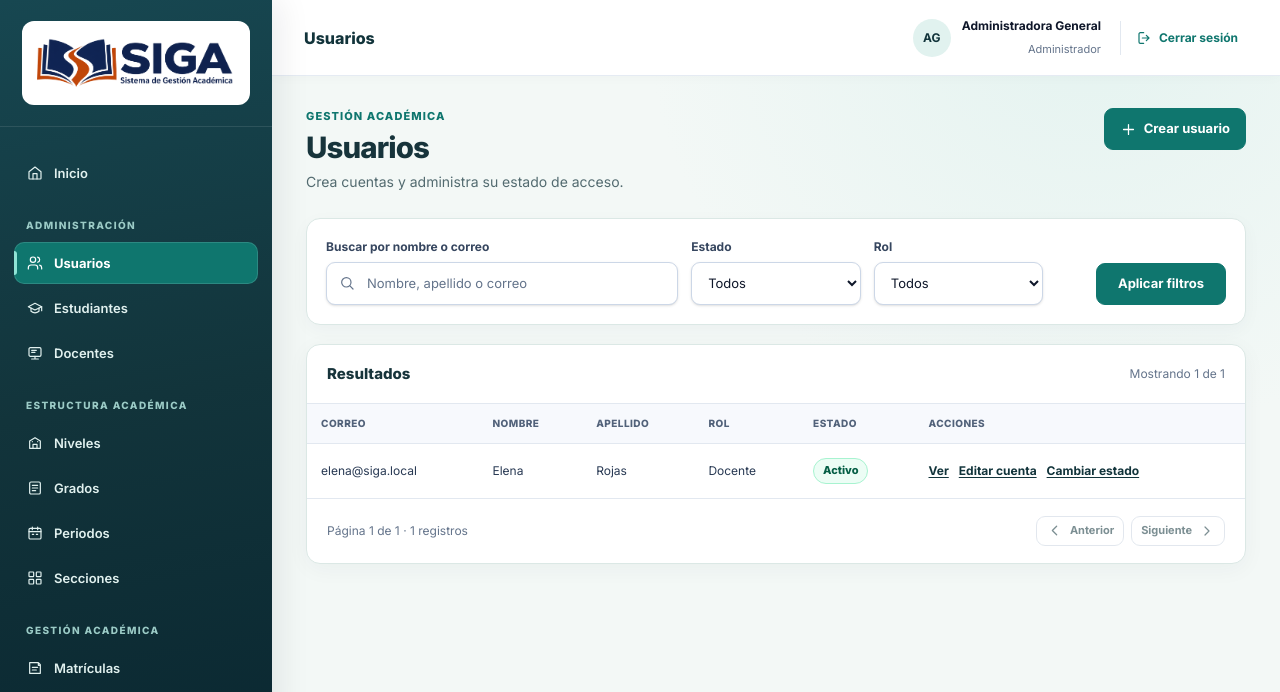
Test: Ver y Editar cuenta usan rutas reales; guardar elimina un error anterior y preserva el estado
The width and height of the screenshot is (1280, 692).
Click the button "Ver" at {"x": 939, "y": 471}, box x1=928 y1=463 x2=949 y2=480
(page scrolled)
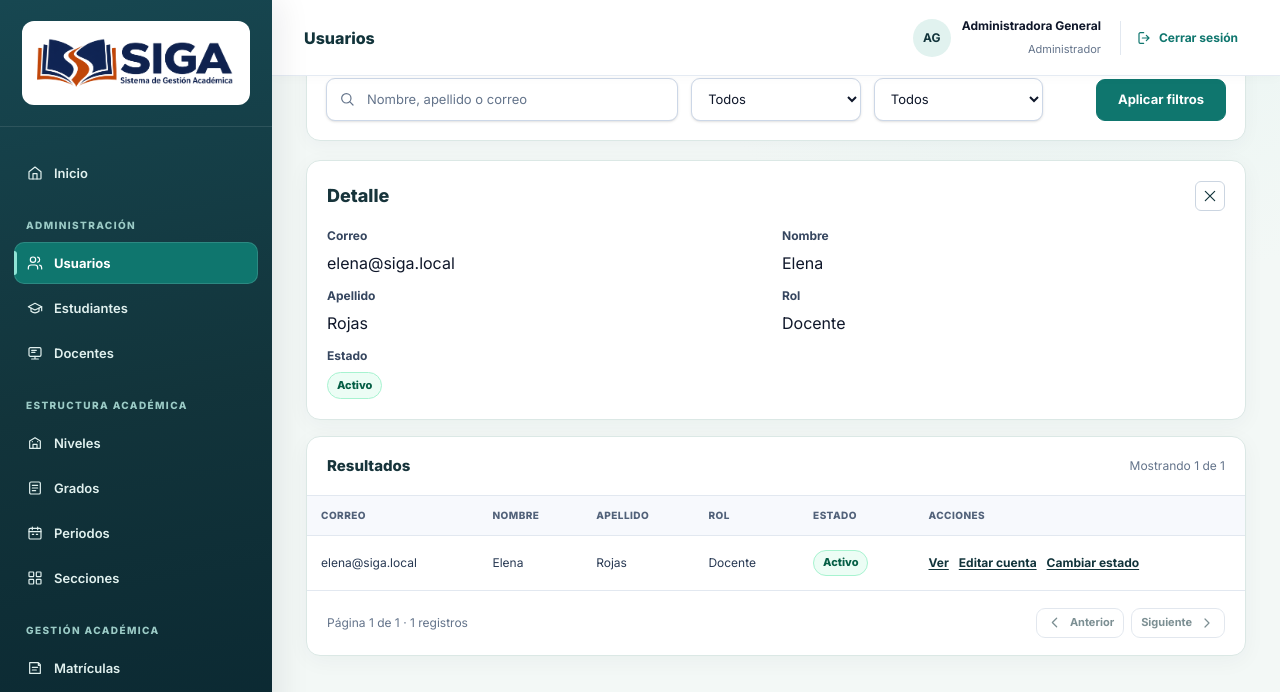
Now the heading "Detalle" is shown, box x1=327 y1=182 x2=389 y2=210
Click the button "Editar cuenta" at {"x": 998, "y": 563}, box x1=959 y1=555 x2=1037 y2=572
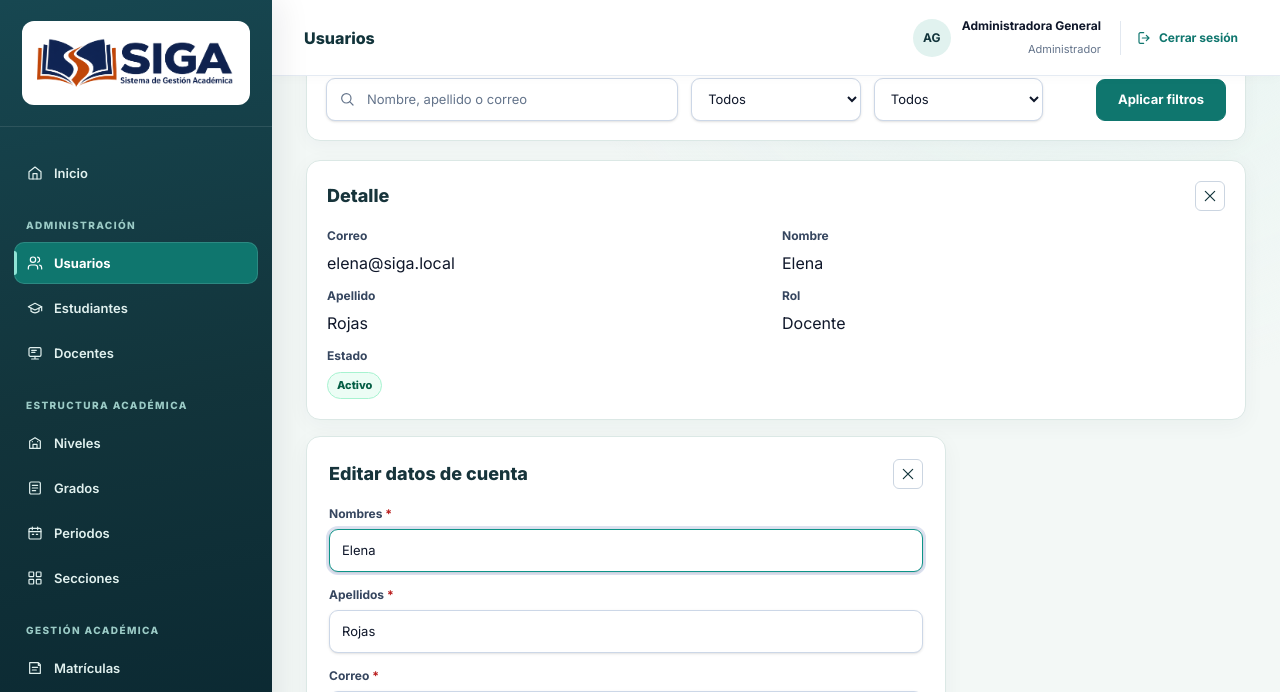
Now the heading "Editar datos de cuenta" is shown, box x1=329 y1=460 x2=528 y2=487
Replace the text in the field labelled "Nombres" with "Lucía" at {"x": 626, "y": 550}, box x1=329 y1=529 x2=923 y2=572
(page scrolled)
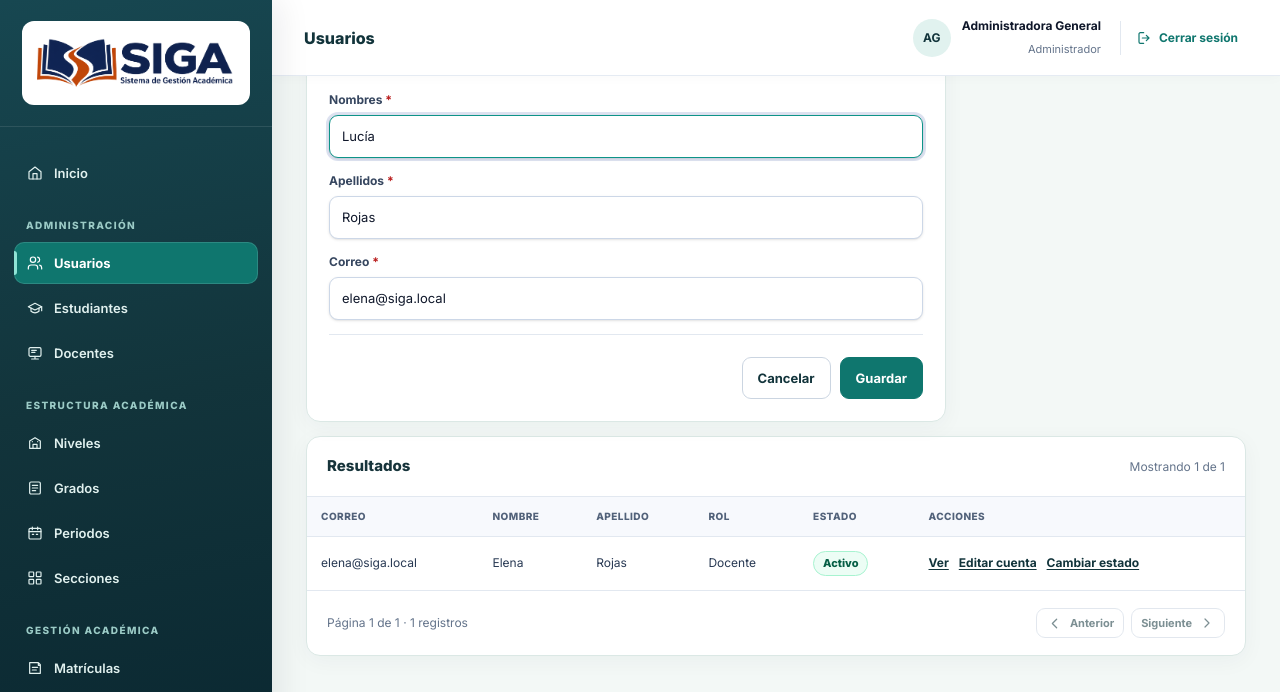
Click the button "Guardar" at {"x": 881, "y": 378}, box x1=840 y1=357 x2=923 y2=399
(page scrolled)
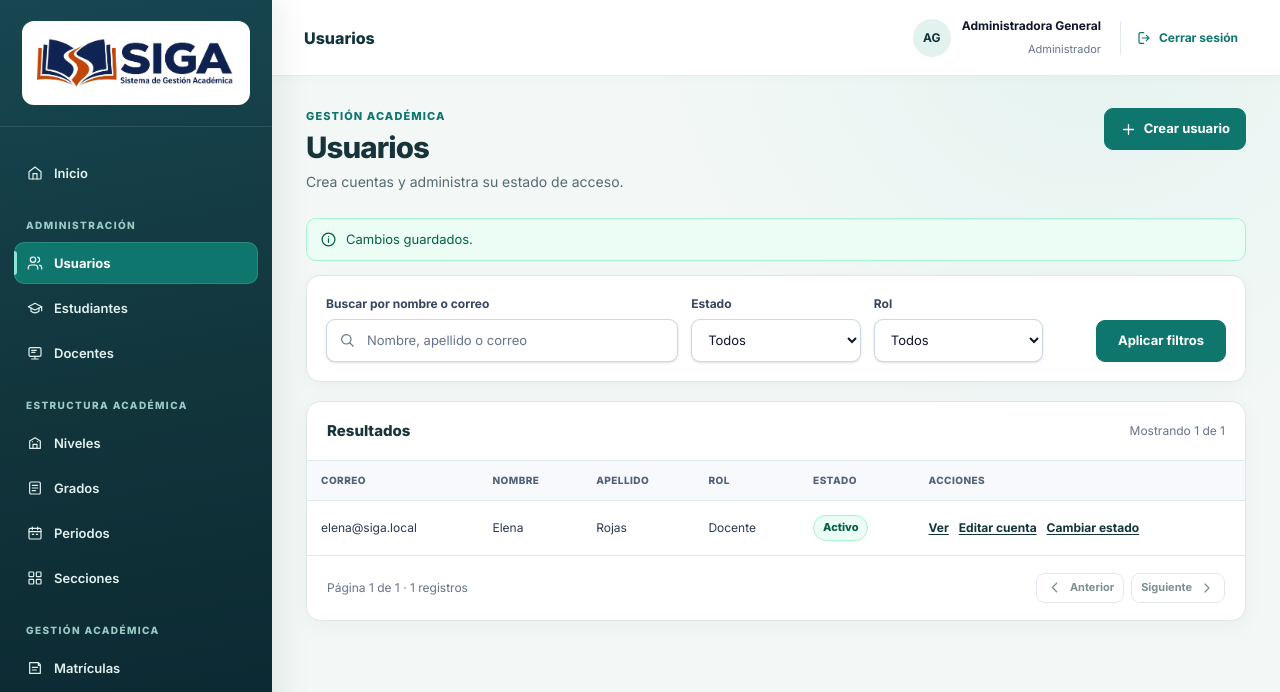
Now the message shows "Cambios guardados", box x1=346 y1=231 x2=473 y2=247
Click the button "Cambiar estado" at {"x": 1093, "y": 528}, box x1=1047 y1=520 x2=1139 y2=536
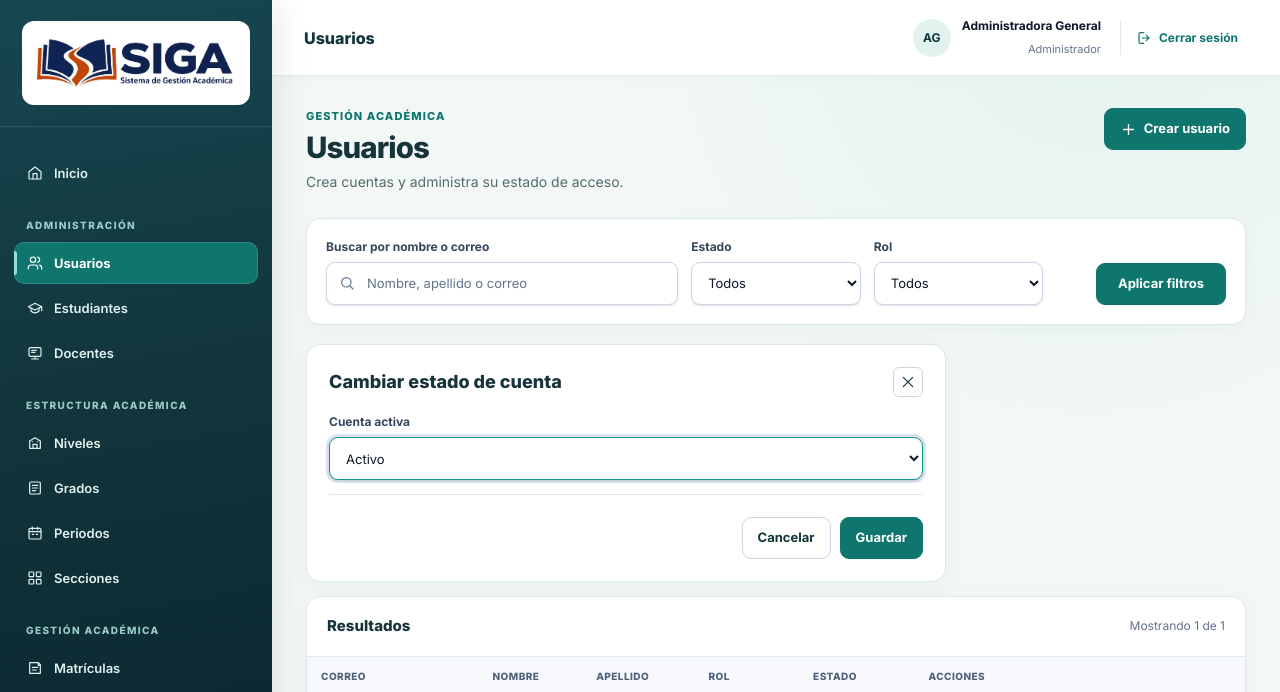
Now the heading "Cambiar estado de cuenta" is shown, box x1=329 y1=368 x2=562 y2=396
Click the button "Cancelar" at {"x": 786, "y": 538}, box x1=742 y1=517 x2=831 y2=559
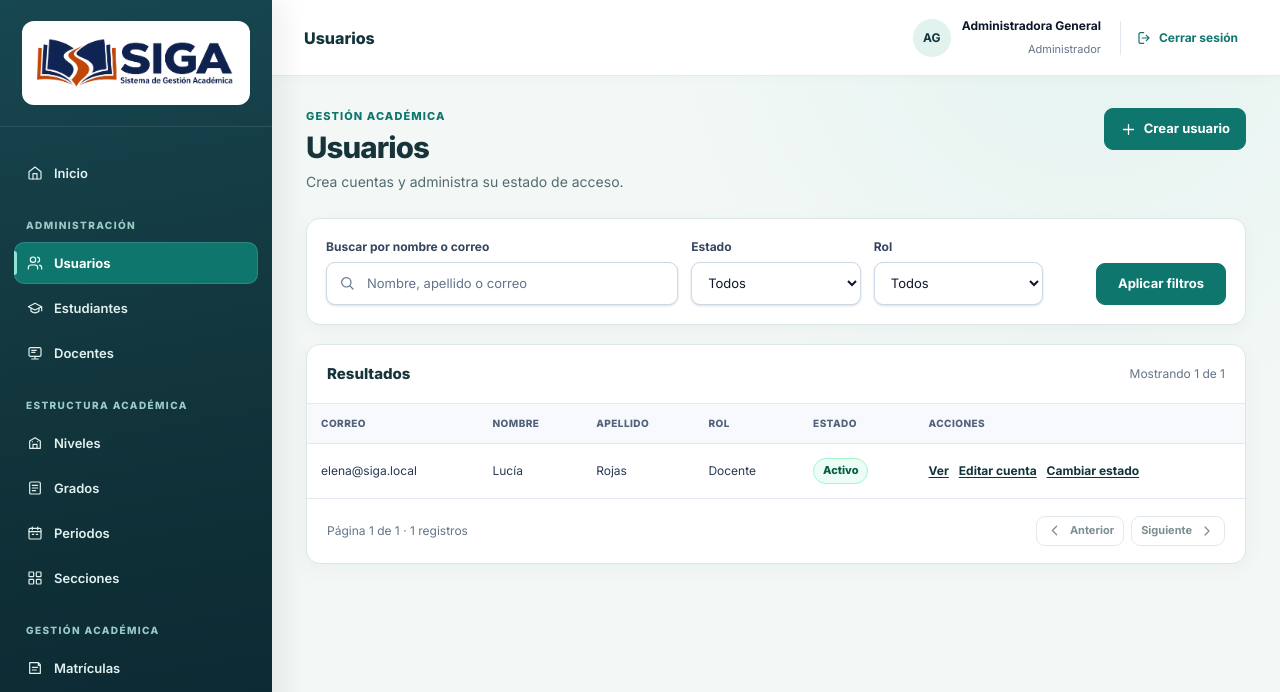
Now the heading "Cambiar estado de cuenta" is gone
